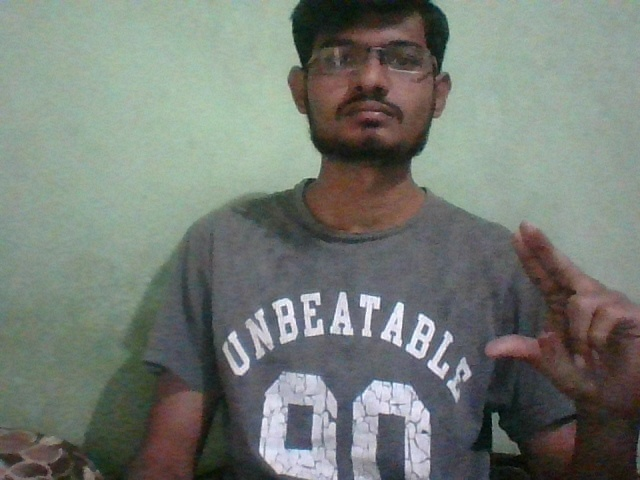no: (481, 215, 640, 403)
